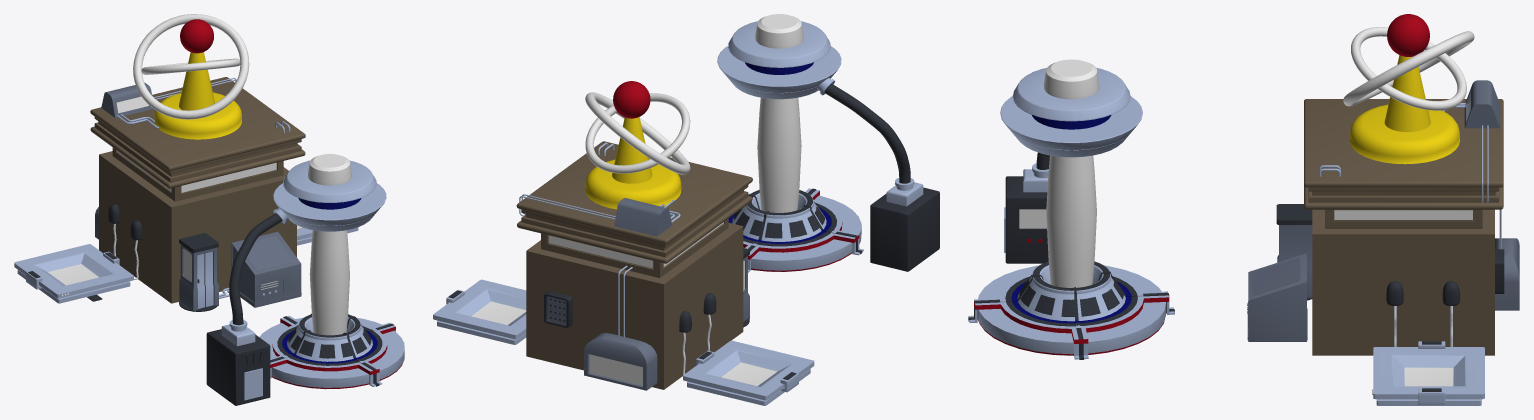
The model's file is energy_source_and_portal_together.fbx.
3 views of the same model, side by side, from view 1: azimuth 30°, elevation 25°; view 2: azimuth 150°, elevation 25°; view 3: azimuth 270°, elevation 25° (orthographic). The views are drawn at different scales.
Parts seen in each view (by area): view 1: building, energy tower, power machines, portal 2, tower top, source power box, Orbs.001, electricity door, Pipe, Orbs, WIRES, tubes; view 2: building, energy tower, portal 2, source power box, tower top, portals.002, power machines.001, Orbs.001, Orbs, power machines, Pipe, tubes (+3 smaller); view 3: building, energy tower, tower top, portals.002, power machines, source power box, Orbs, Orbs.001, electricity door, power machines.001, WIRES, tubes.
Boxes of the visible parts, x1,y1,x2,y2 form: building: (90,77,305,303); energy tower: (259,154,404,389); power machines: (101,82,301,307); portal 2: (14,244,133,303); tower top: (154,19,241,139); source power box: (206,320,270,405); Orbs.001: (133,14,249,119); electricity door: (179,233,218,311); Pipe: (229,213,282,325); Orbs: (141,58,240,74); WIRES: (108,204,141,279); tubes: (116,78,290,298); building: (516,141,752,389); energy tower: (717,14,863,272); portal 2: (683,340,814,405); source power box: (870,178,939,271); tower top: (585,81,681,209); portals.002: (433,279,526,344); power machines.001: (584,333,657,390); Orbs.001: (585,92,690,174); Orbs: (585,93,690,173); power machines: (614,198,672,236); Pipe: (824,84,910,183); tubes: (519,142,680,337); building: (1304,99,1503,355); energy tower: (968,59,1174,359); tower top: (1350,14,1459,164); portals.002: (1372,341,1484,405); power machines: (1247,80,1500,341); source power box: (1004,163,1048,263); Orbs: (1351,27,1466,110); Orbs.001: (1343,31,1474,106); electricity door: (1276,204,1312,300); power machines.001: (1495,238,1519,310); WIRES: (1386,281,1459,346); tubes: (1319,103,1501,249).
Bounding box in the file's own units: 1230 × 905 × 1498.
